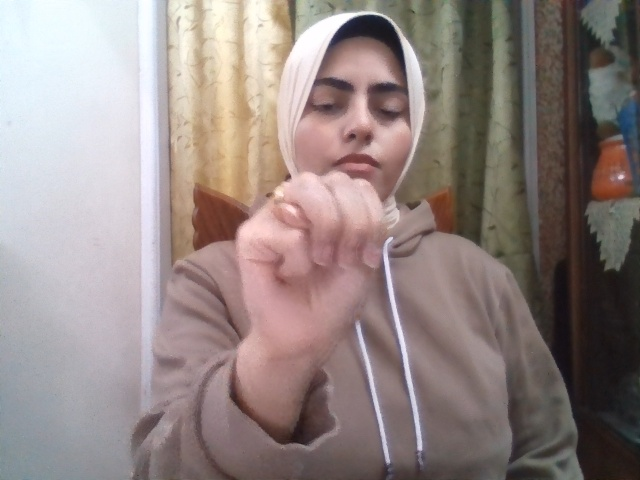M: (236, 171, 385, 363)
